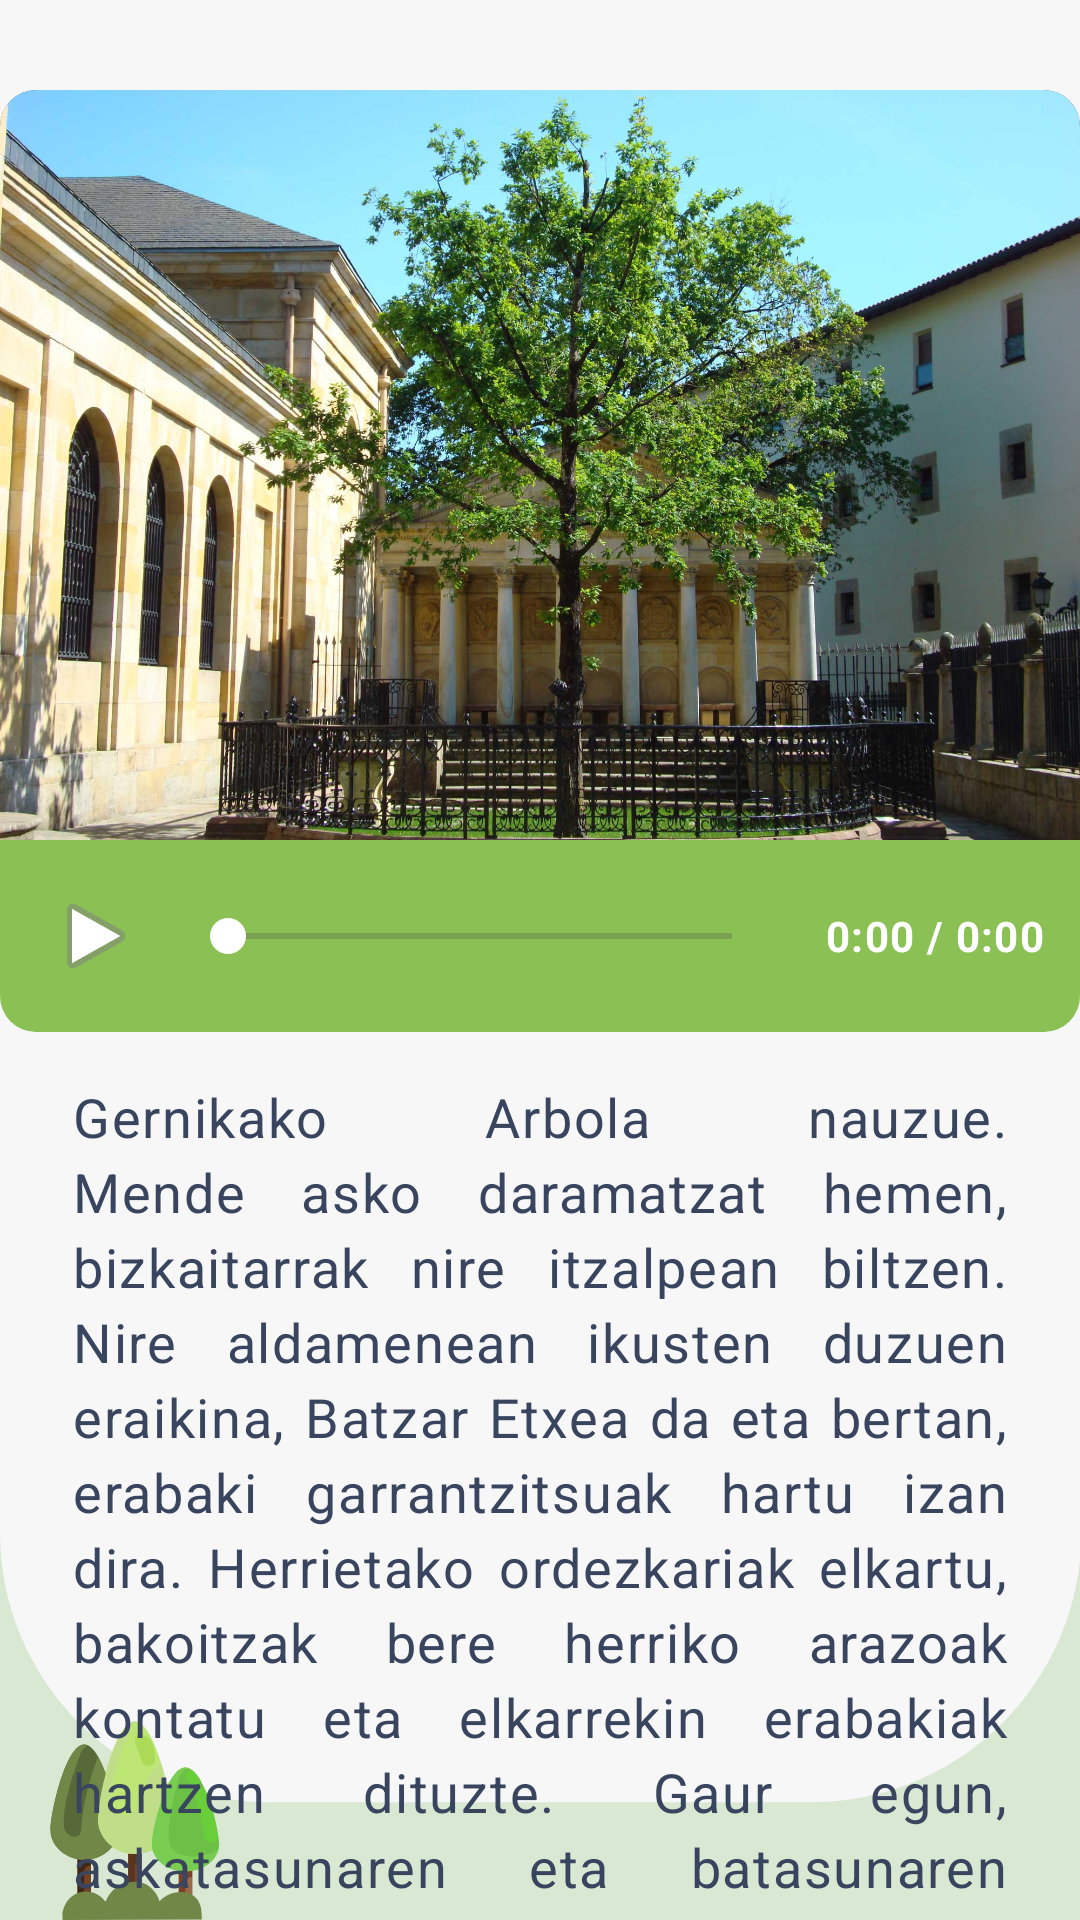

Screen size 1080 × 1920. Icon name, then its box in pixels as (x1, y1, x2, y2):
Erreproduzitu/Gelditu: (67, 904, 125, 968)
